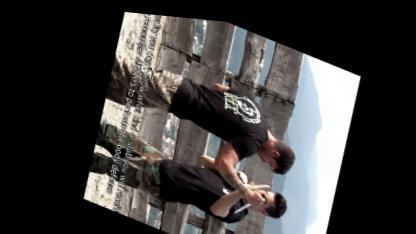knife: (223, 174, 268, 221)
